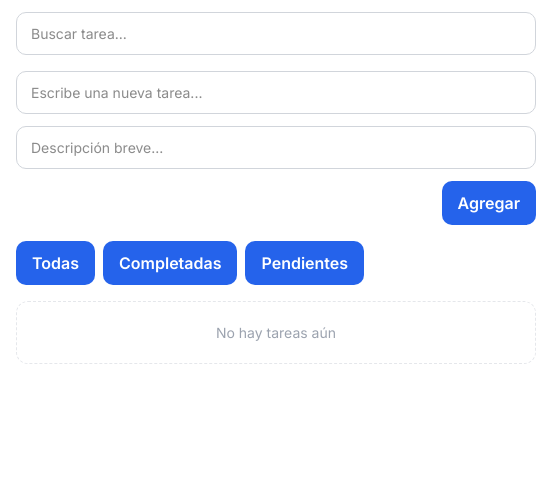
Test: permite agregar una tarea
Type "Mi tarea" into the field with placeholder "Escribe una nueva tarea..." at [276, 92], box [16,71,536,114]
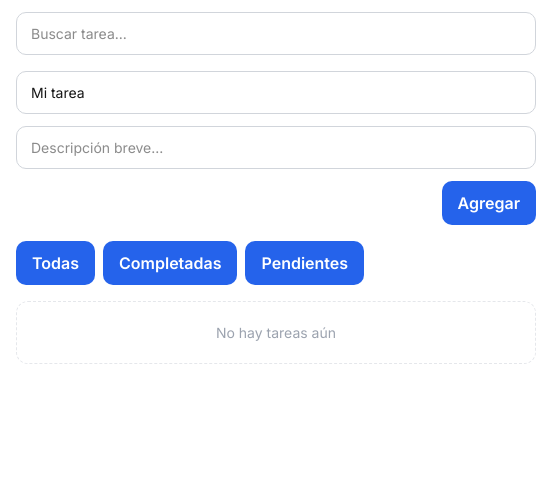
Click the button "Agregar" at [489, 203], box [442,181,536,225]
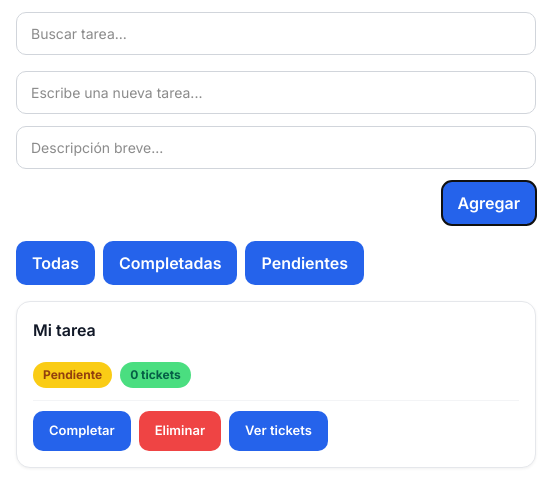
Result: the heading "Mi tarea" is shown at [33,318,96,342]
